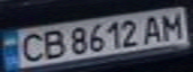1: (103, 19, 124, 49)
2: (118, 16, 145, 47)
6: (87, 21, 109, 53)
8: (66, 25, 90, 56)
A: (139, 12, 169, 44)
B: (36, 27, 69, 61)
C: (12, 30, 48, 64)
M: (157, 10, 187, 40)
